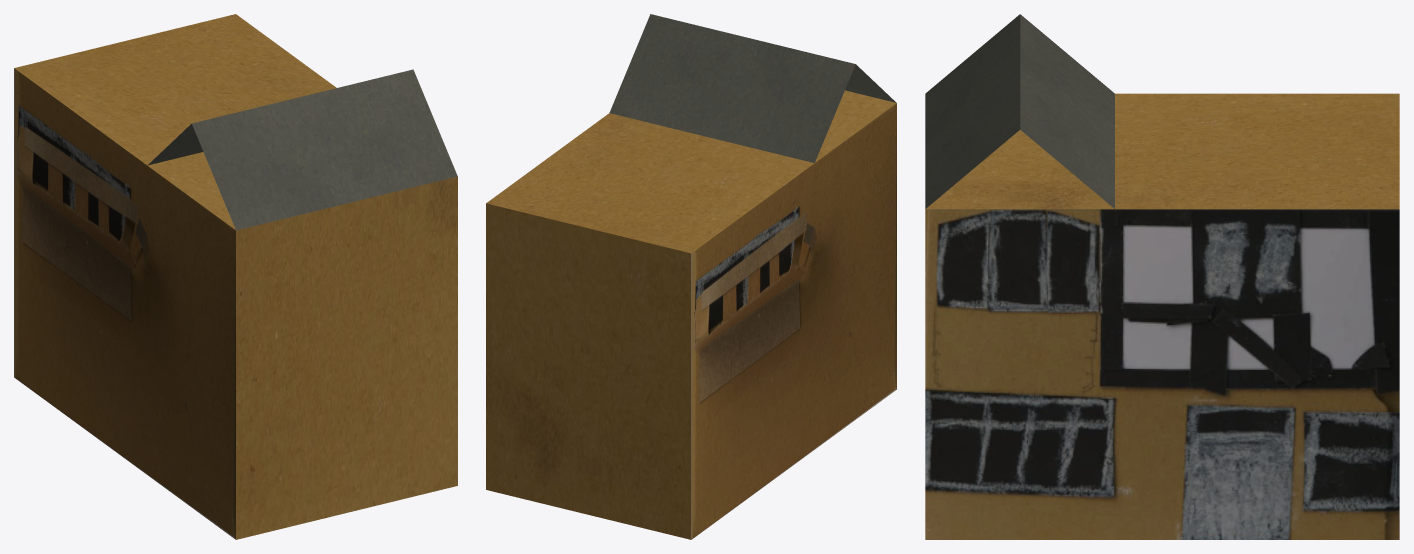
The picture shows the model from 3 angles, left to right: view 1: azimuth 30°, elevation 25°; view 2: azimuth 150°, elevation 25°; view 3: azimuth 270°, elevation 25°; orthographic projection. The views are drawn at different scales.
Parts seen in each view (by area): view 1: Cube Outer, Roof, Cube.002; view 2: Cube Outer, Roof, Cube.002; view 3: Cube Outer, Roof.
Boxes of the visible parts, bbox=[...] form: Cube Outer: bbox=[14, 68, 457, 539]; Roof: bbox=[14, 14, 457, 230]; Cube.002: bbox=[147, 124, 203, 165]; Cube Outer: bbox=[486, 103, 896, 539]; Roof: bbox=[486, 14, 896, 253]; Cube.002: bbox=[845, 64, 896, 102]; Cube Outer: bbox=[925, 209, 1399, 539]; Roof: bbox=[925, 14, 1399, 209].
Bounding box in the file's own units: 7.5 × 12.41 × 13.
Materials: 1 (1 with a texture image).
